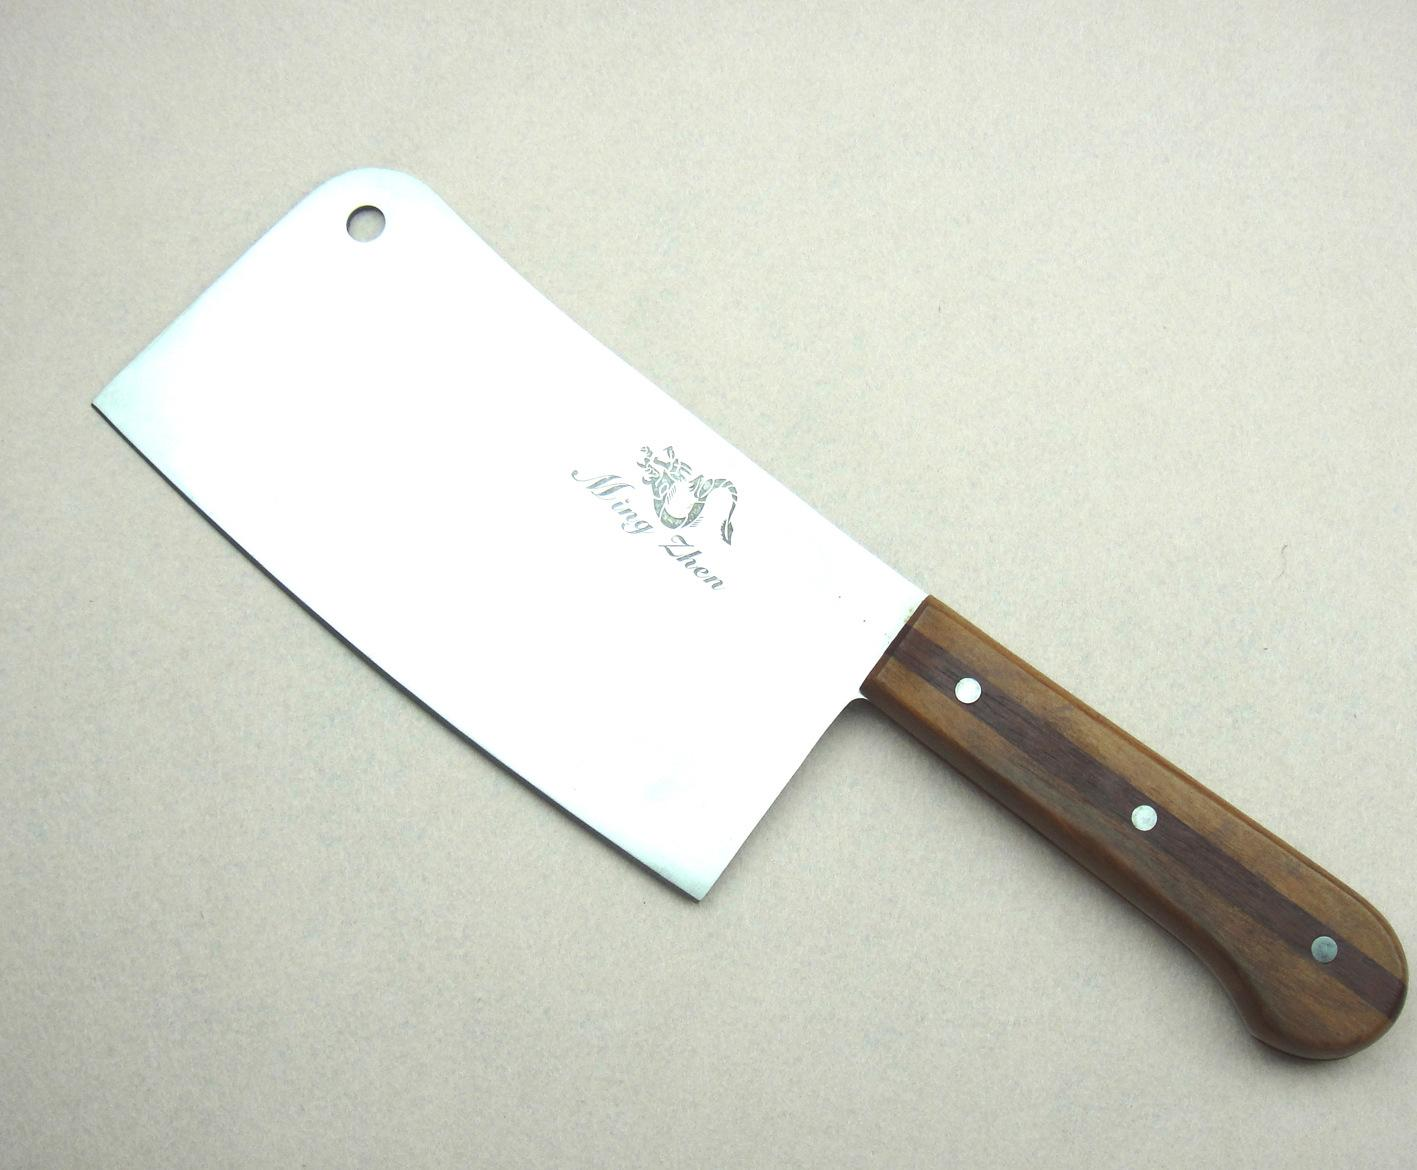knief: (92, 162, 1364, 1093)
